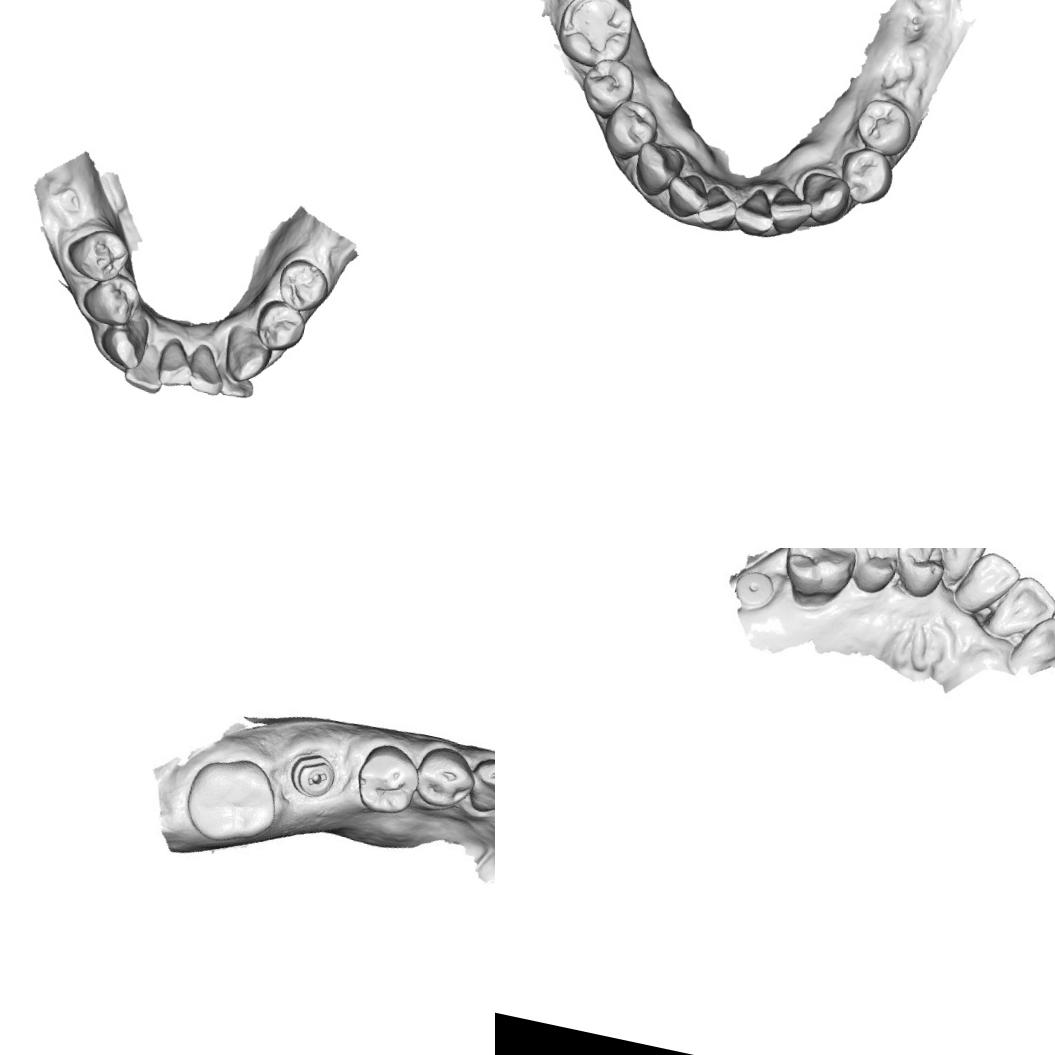canine: (628, 136, 690, 202), (218, 320, 278, 388), (94, 308, 153, 373), (796, 169, 856, 230), (931, 548, 989, 589), (464, 751, 495, 822)
implant: (732, 566, 776, 612)
implant_minus: (283, 745, 342, 804)
incisor: (981, 569, 1055, 648), (948, 548, 1023, 621), (1005, 608, 1055, 682), (761, 182, 817, 241), (730, 182, 784, 242), (661, 166, 712, 224), (120, 337, 170, 396), (182, 340, 230, 400), (152, 334, 200, 392), (693, 182, 742, 235), (211, 356, 261, 402)
molar: (178, 747, 286, 854), (550, 0, 641, 75), (777, 548, 865, 606)
premolar: (350, 737, 426, 820), (410, 741, 481, 815), (595, 94, 663, 169), (60, 221, 134, 288), (576, 52, 642, 126), (834, 142, 900, 212), (850, 94, 920, 160), (77, 267, 143, 331), (271, 253, 335, 318), (250, 297, 310, 356), (888, 548, 950, 601), (845, 548, 908, 598)
